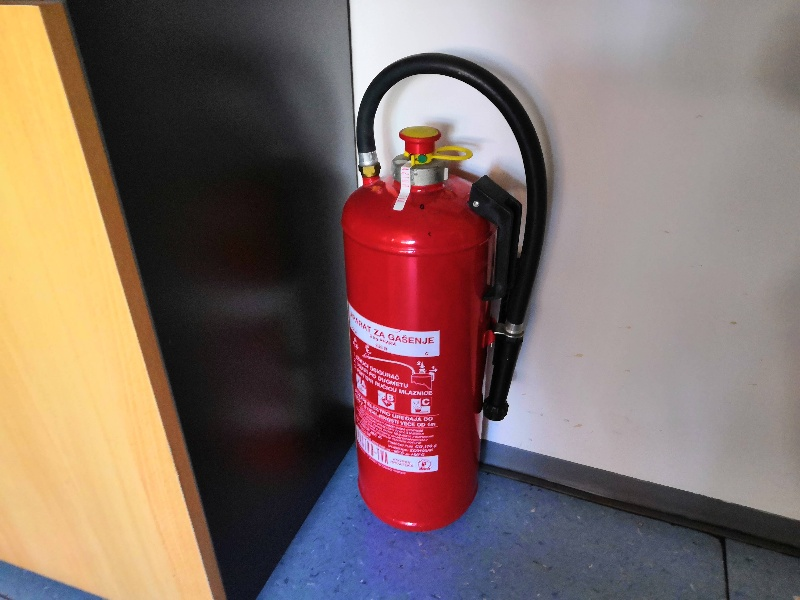vataparat: (340, 53, 549, 533)
